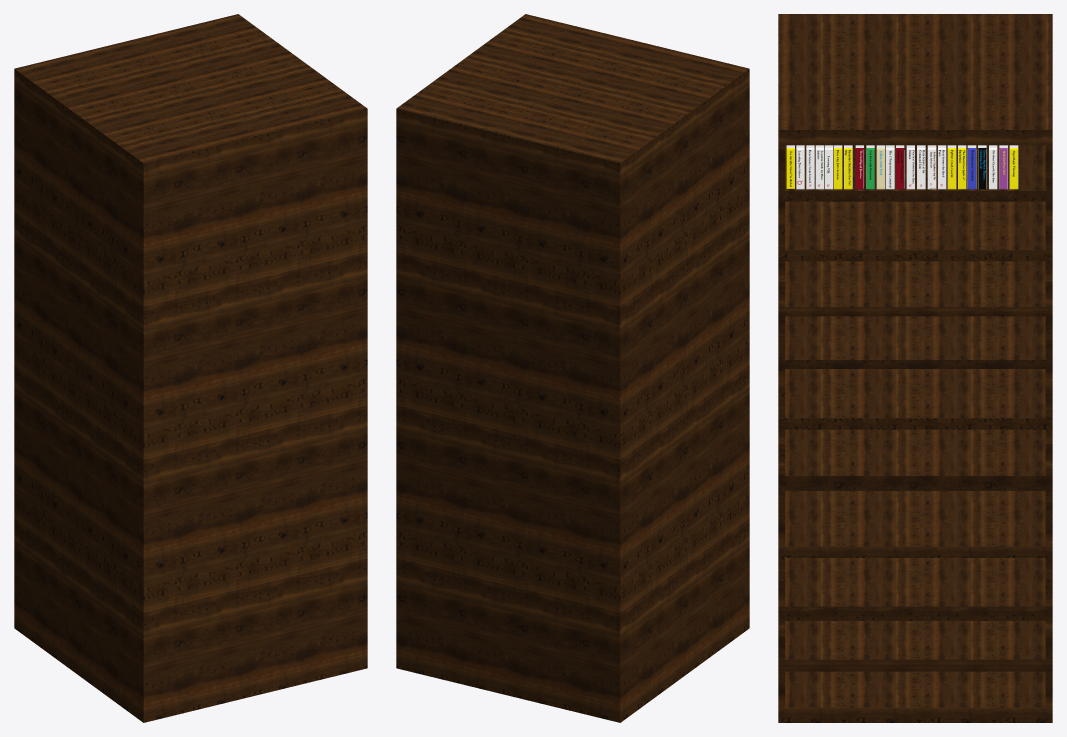
The model's file is Bookshelf.glb.
3 views of the same model, side by side, from view 1: azimuth 30°, elevation 25°; view 2: azimuth 150°, elevation 25°; view 3: azimuth 270°, elevation 25° (orthographic). The views are drawn at different scales.
Parts seen in each view (by area): view 1: Cube; view 2: Cube; view 3: Cube, se_ds, py_crash, dive_ds, damodaran, million_math, algo_think.
Boxes of the visible parts, x1,y1,x2,y2 form: Cube: (14, 14, 367, 722); Cube: (396, 14, 749, 722); Cube: (778, 14, 1052, 722); se_ds: (927, 145, 936, 189); py_crash: (947, 145, 956, 189); dive_ds: (833, 145, 842, 189); damodaran: (967, 145, 976, 189); million_math: (876, 145, 885, 189); algo_think: (1009, 145, 1018, 189).
Size of the model in its own units: 2 by 4.77 by 2.
25 materials, 24 textured.
